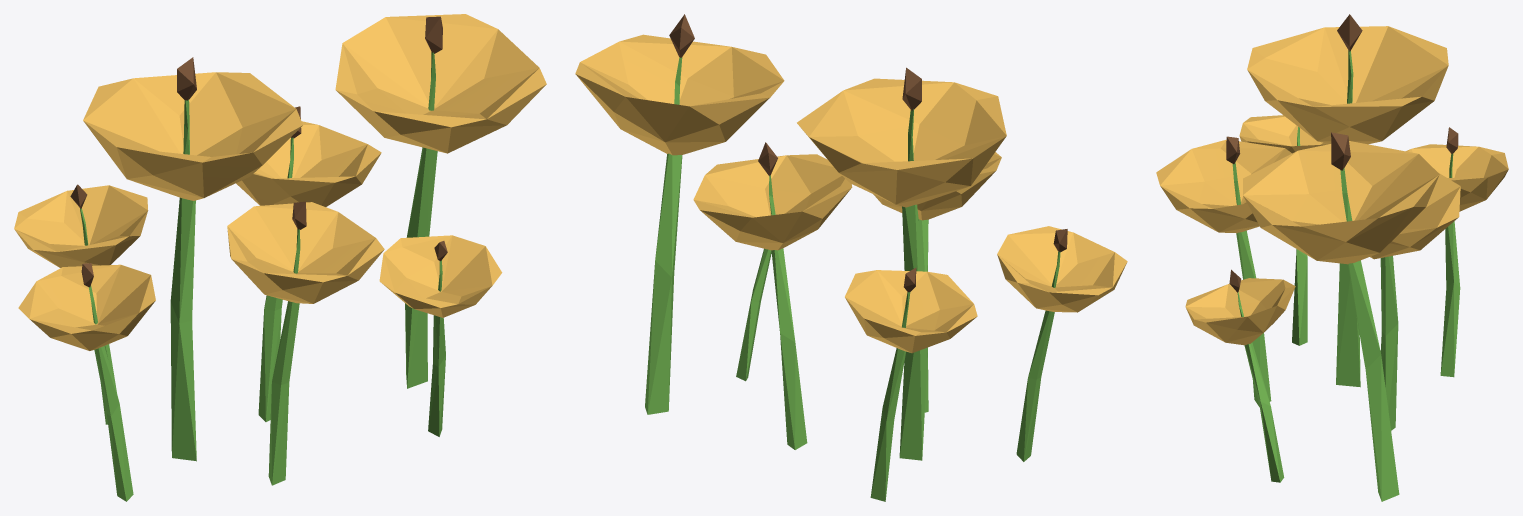
The model's file is Flower_04.fbx.
The picture shows the model from 3 angles, left to right: view 1: azimuth 30°, elevation 25°; view 2: azimuth 150°, elevation 25°; view 3: azimuth 270°, elevation 25°; orthographic projection. The views are drawn at different scales.
Visible parts, largest first — view 1: Flower_04; view 2: Flower_04; view 3: Flower_04.
Part boxes in pixels (x1=…): Flower_04: x1=14, y1=14, x2=546, y2=501; Flower_04: x1=575, y1=14, x2=1127, y2=501; Flower_04: x1=1156, y1=14, x2=1508, y2=501.
Size of the model in its own units: 32.19 by 24.14 by 20.62.
